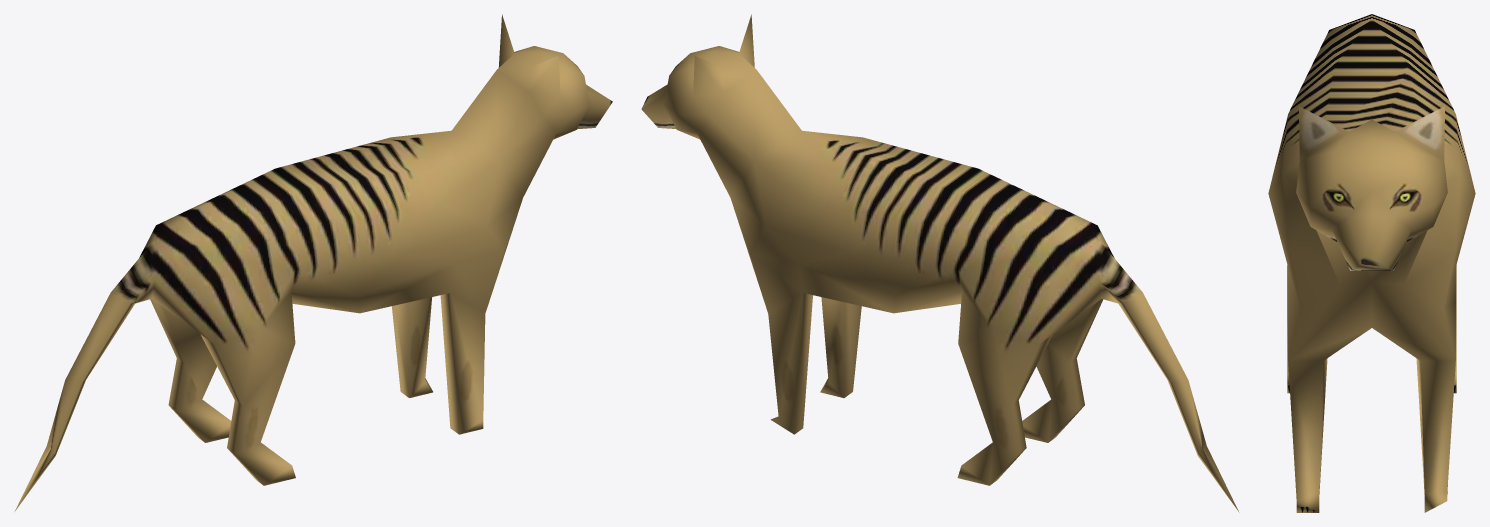
File: animals-tasmanian-wolf-196.glb
3 views of the same model, side by side, from view 1: azimuth 30°, elevation 25°; view 2: azimuth 150°, elevation 25°; view 3: azimuth 270°, elevation 25° (orthographic). The views are drawn at different scales.
Parts seen in each view (by area): view 1: Icosphere_Icosphere.001; view 2: Icosphere_Icosphere.001; view 3: Icosphere_Icosphere.001.
Boxes of the visible parts, box(x1,y1,x2,y2) form: Icosphere_Icosphere.001: box(14, 14, 612, 511); Icosphere_Icosphere.001: box(641, 14, 1239, 512); Icosphere_Icosphere.001: box(1268, 14, 1475, 512).
Size of the model in its own units: 2 by 1.14 by 0.4696.
1 material, 1 textured.
